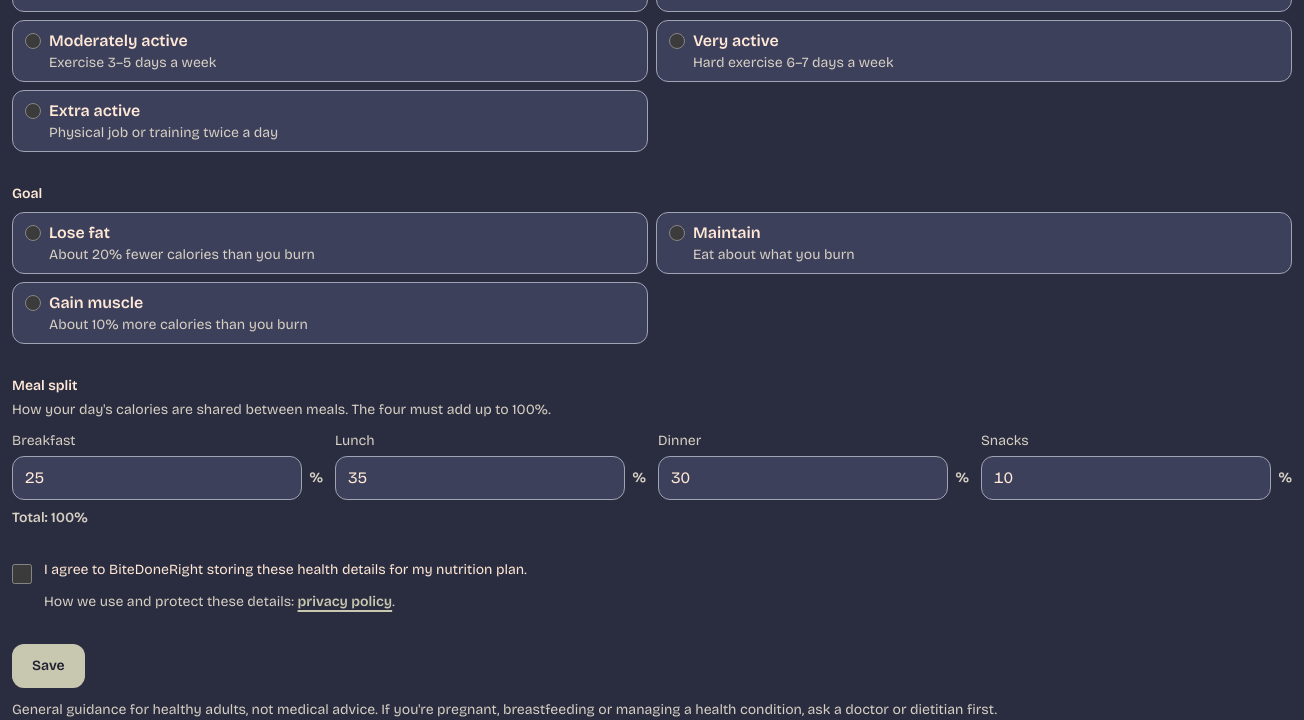
Scenario: ProfileForm › keeps a live total of the meal split
(page scrolled)
Replace the text in the field labelled "Snacks" with "15" at [1126, 478], box x1=981 y1=456 x2=1270 y2=500
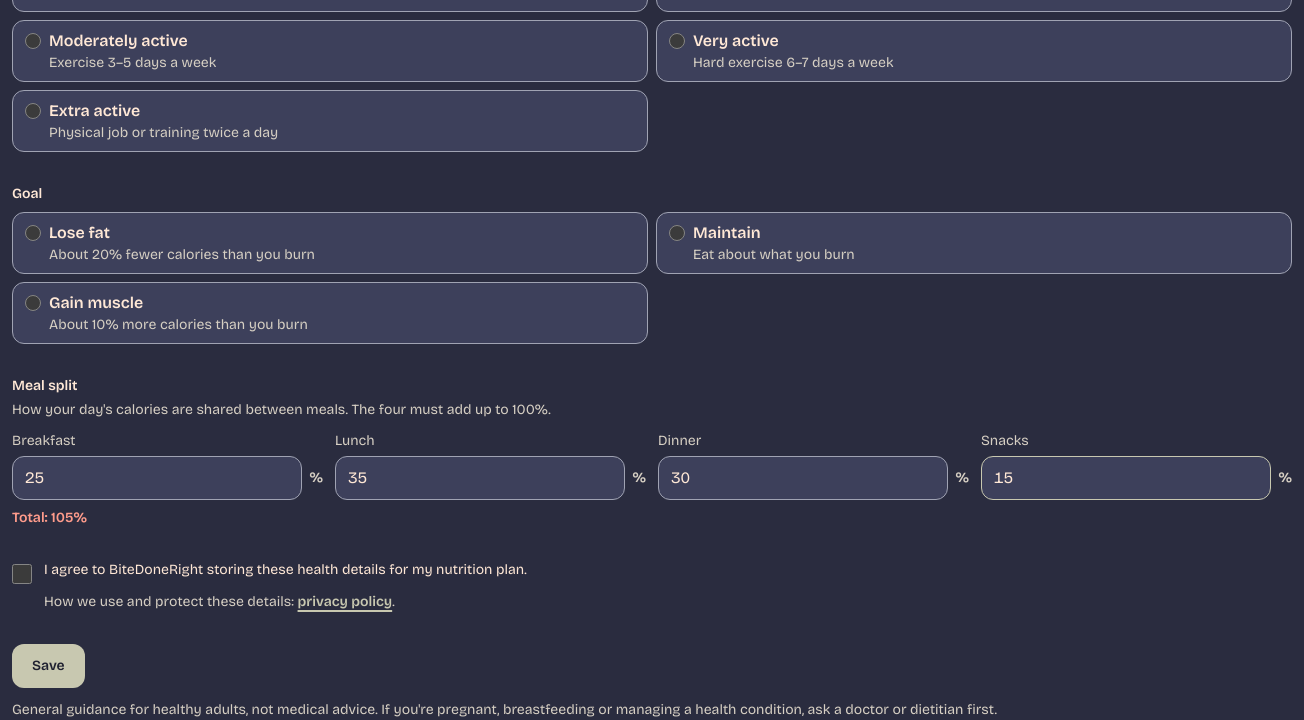
Now the text "Total: 105%" is shown, box x1=12 y1=509 x2=87 y2=526
